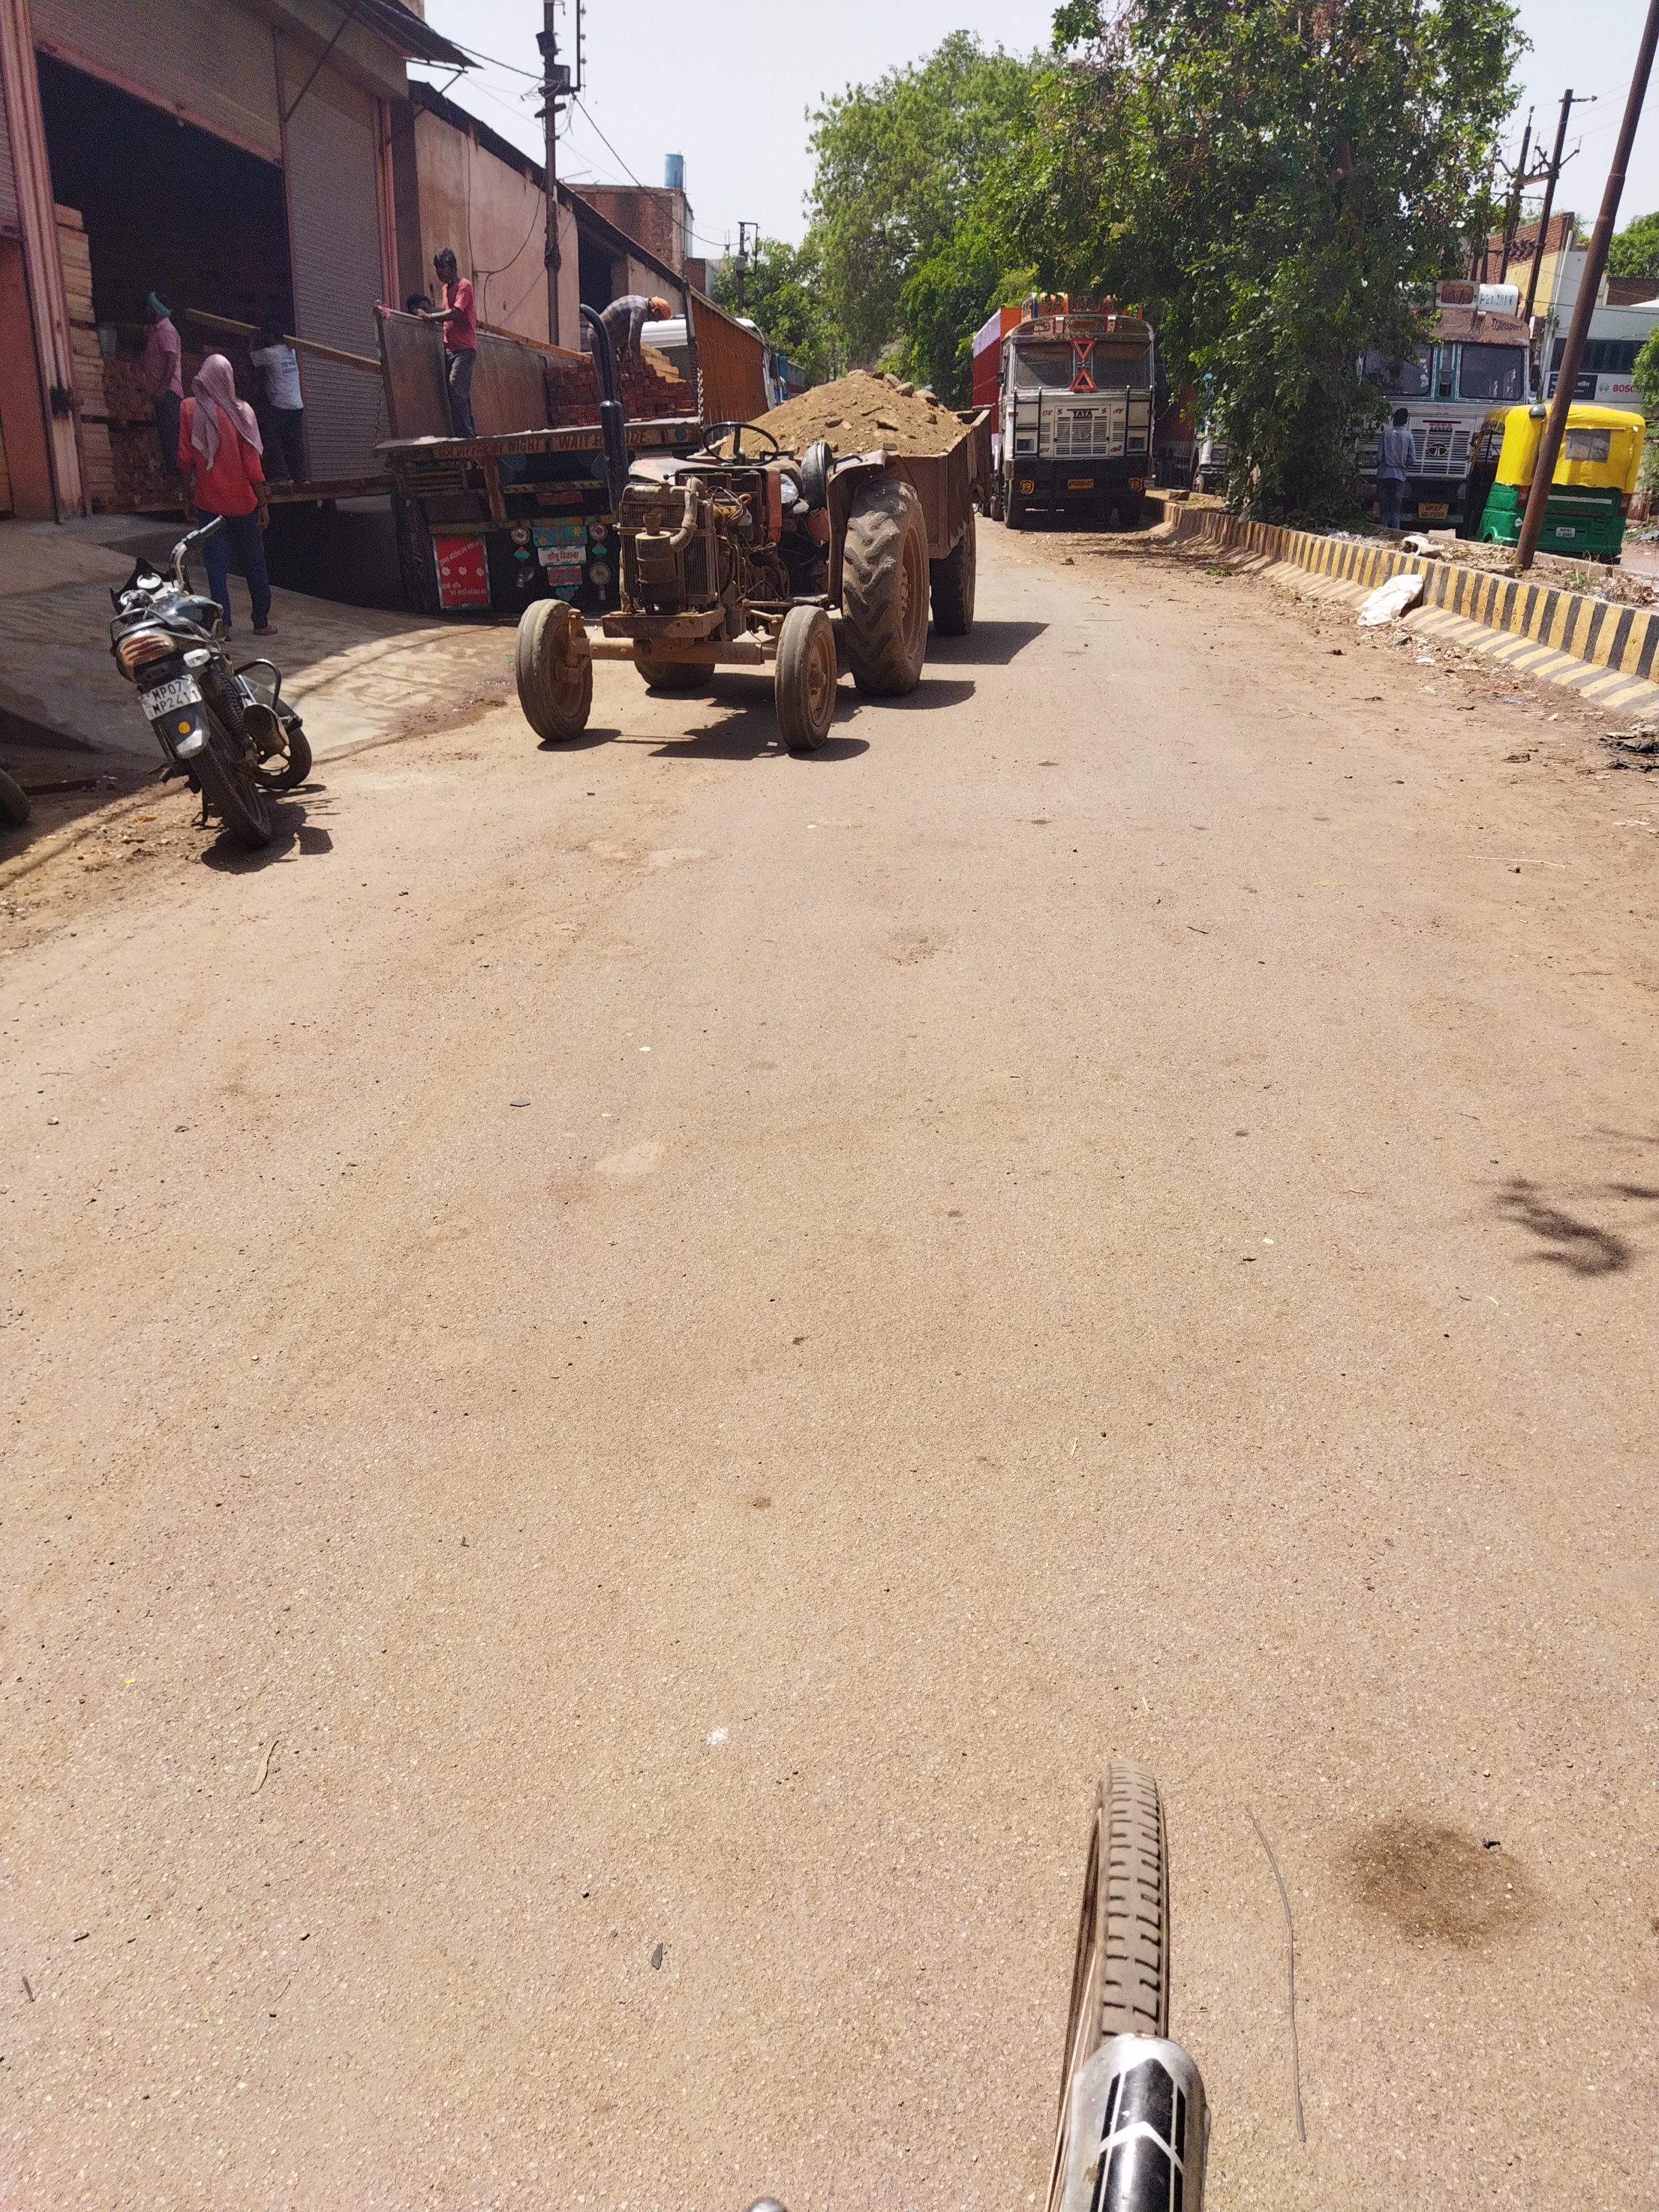tractor: (511, 301, 997, 756)
